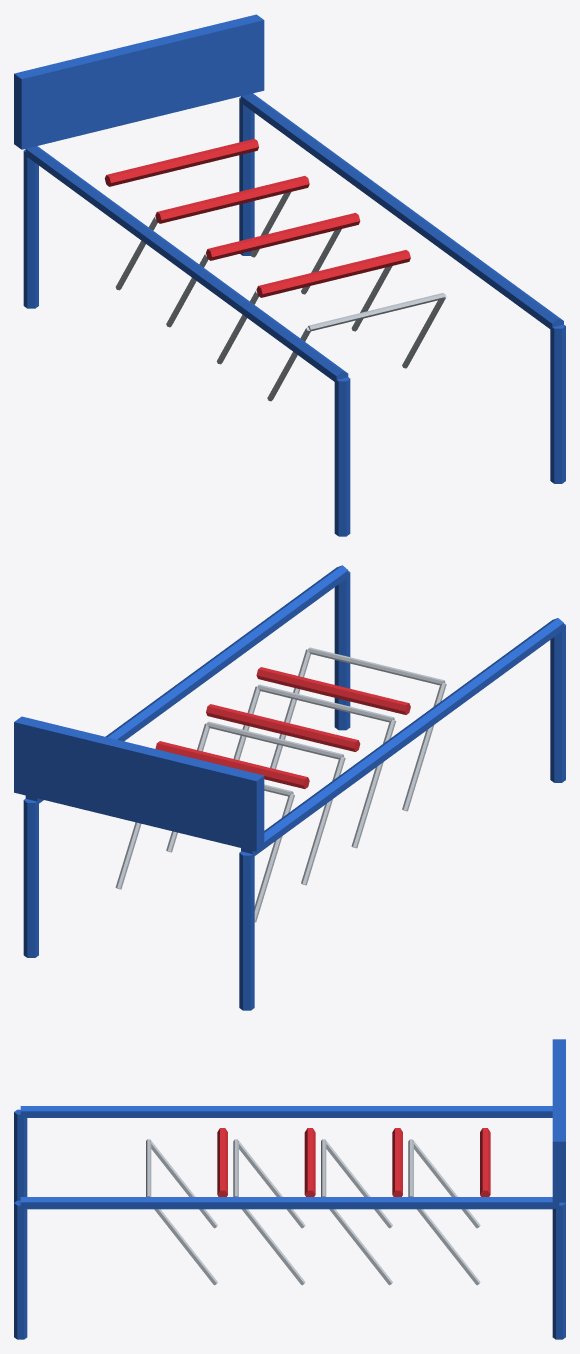
Rendered from cart-corral.glb.
3 views of the same model, one above another, from view 1: azimuth 30°, elevation 25°; view 2: azimuth 150°, elevation 25°; view 3: azimuth 270°, elevation 25° (orthographic). The views are drawn at different scales.
Visible parts, largest first — view 1: cart-corral; view 2: cart-corral; view 3: cart-corral.
Part boxes in pixels (left/top/right/bottom): cart-corral: left=14, top=14, right=565, bottom=536; cart-corral: left=14, top=565, right=565, bottom=1010; cart-corral: left=14, top=1039, right=565, bottom=1339.
Size of the model in its own units: 1.8 by 1.65 by 4.1.
